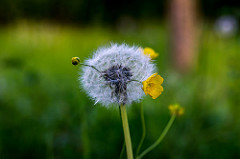dandelion white: (77, 42, 159, 110)
